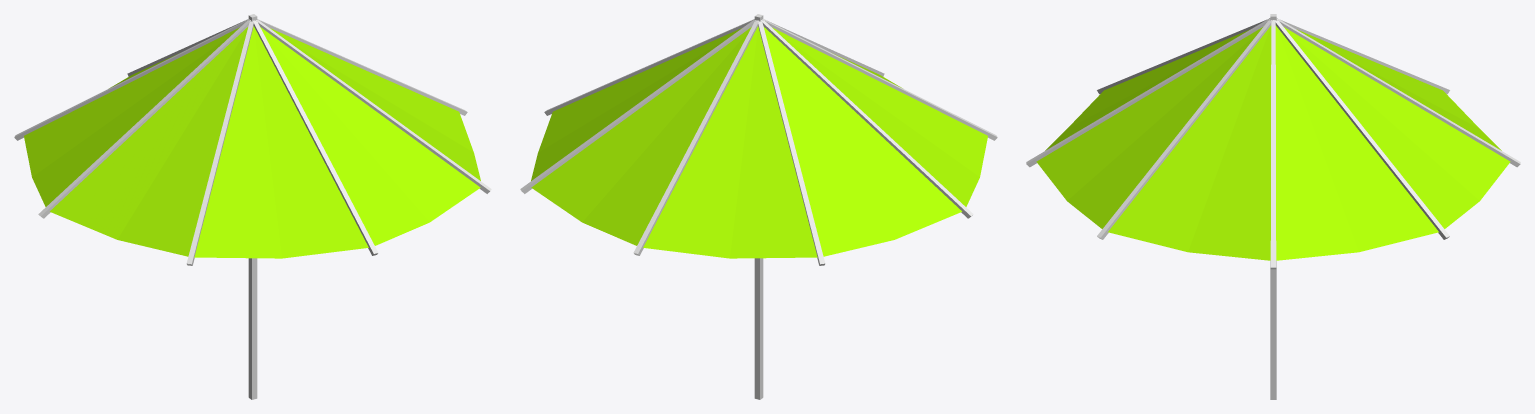
Rendered from umbrella_03.fbx.
The picture shows the model from 3 angles, left to right: view 1: azimuth 30°, elevation 25°; view 2: azimuth 150°, elevation 25°; view 3: azimuth 270°, elevation 25°; orthographic projection.
Parts seen in each view (by area): view 1: umbrella_03; view 2: umbrella_03; view 3: umbrella_03.
Part boxes in pixels (left/top/right/bottom): umbrella_03: left=14, top=14, right=491, bottom=399; umbrella_03: left=520, top=14, right=997, bottom=399; umbrella_03: left=1026, top=14, right=1520, bottom=399.
Bounding box in the file's own units: 3.66 × 3.14 × 3.66.
